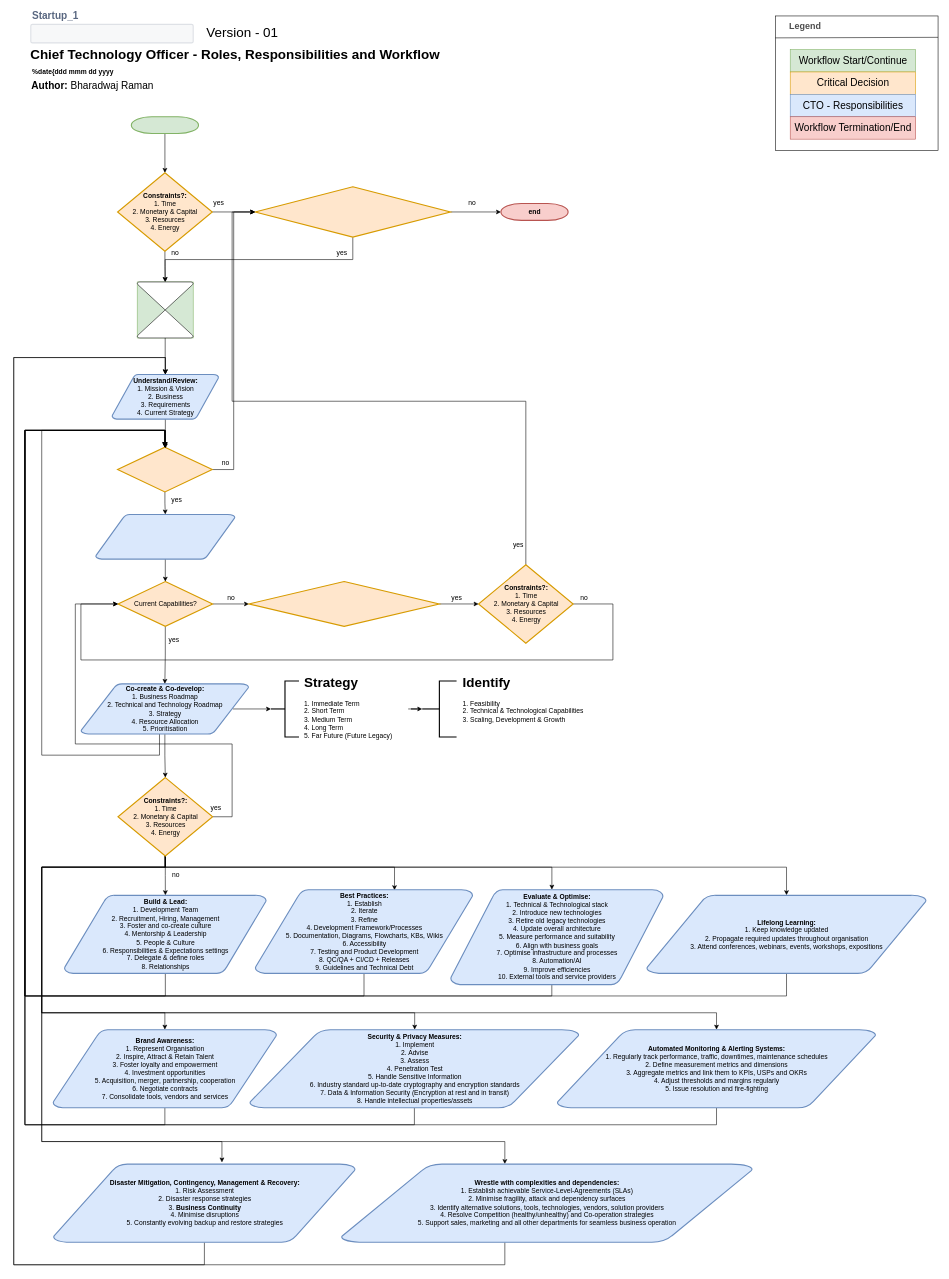
This 949x1279 diagram has some shape labels left out. The centre of each missing label's shape, as x and y in pixels:
Continue: point 165,309
Possibility and interest in acquisition of capabilities?: point 344,604
Reassess and course correction/evolution possible?: point 352,211
Satisfactory co-operation?: point 165,469
start: point 164,125
Understand/Review: 1. Current MVP State 2. Current Technology Stack: point 165,536
Workflow - CTO: point 111,33
